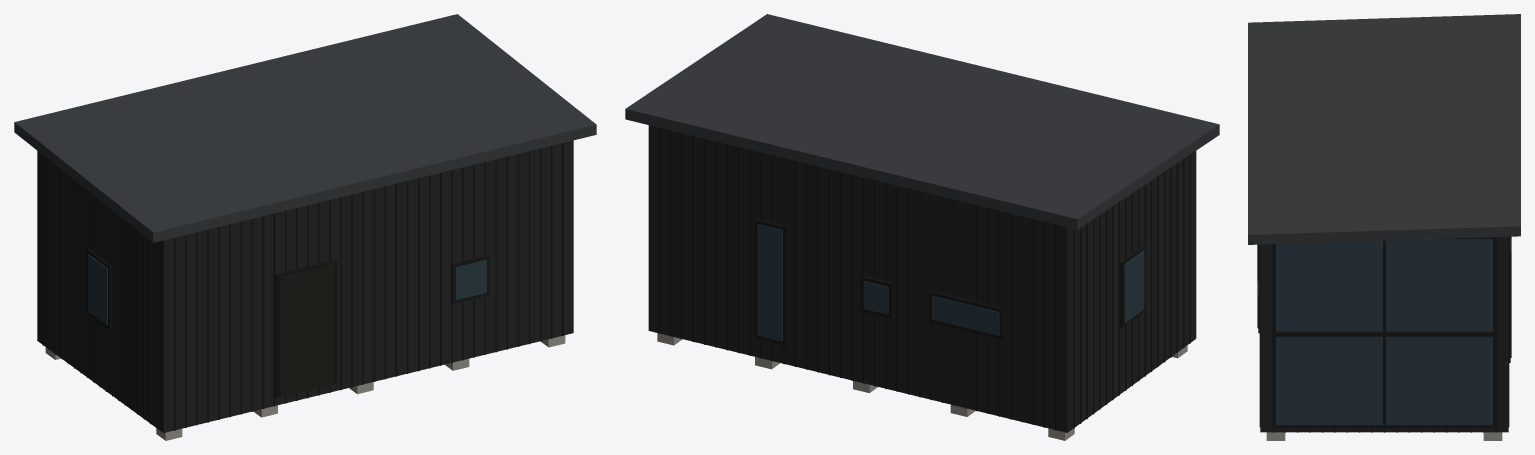
Rendered from hus-r5.glb.
The picture shows the model from 3 angles, left to right: view 1: azimuth 30°, elevation 25°; view 2: azimuth 150°, elevation 25°; view 3: azimuth 270°, elevation 25°; orthographic projection. The views are drawn at different scales.
Parts seen in each view (by area): view 1: del10, del11, del127, del126, del137, del129, del128, del52, del26, del28, del50, del70 (+4 smaller); view 2: del10, del11, del135, del131, del134, del137, del130, del133, del136, del15, del41, del53 (+5 smaller); view 3: del11, del123, del10, del122, del125, del124, del83, del82.
Boxes of the visible parts, box(x1,y1,x2,y2) form: del10: box(37, 140, 573, 432); del11: box(14, 14, 596, 242); del127: box(279, 264, 334, 397); del126: box(275, 259, 337, 397); del137: box(88, 254, 107, 325); del129: box(455, 260, 486, 300); del128: box(451, 255, 489, 304); del52: box(395, 183, 397, 376); del26: box(251, 218, 253, 411); del28: box(262, 216, 264, 409); del50: box(384, 186, 386, 379); del70: box(495, 159, 497, 352); del10: box(648, 125, 1196, 432); del11: box(625, 14, 1219, 229); del135: box(757, 224, 782, 341); del131: box(931, 296, 999, 335); del134: box(754, 219, 787, 345); del137: box(1124, 250, 1144, 323); del130: box(929, 291, 1003, 339); del133: box(863, 281, 888, 314); del136: box(1120, 245, 1145, 327); del15: box(1043, 221, 1045, 427); del41: box(896, 185, 898, 391); del53: box(828, 169, 830, 375); del11: box(1248, 14, 1520, 244); del123: box(1276, 239, 1492, 425); del10: box(1260, 236, 1508, 432); del122: box(1272, 237, 1496, 428); del125: box(1276, 331, 1492, 336); del124: box(1383, 240, 1385, 425); del83: box(1508, 237, 1509, 426); del82: box(1259, 245, 1260, 426).
Bounding box in the file's own units: 8.1 × 4.01 × 4.4.
